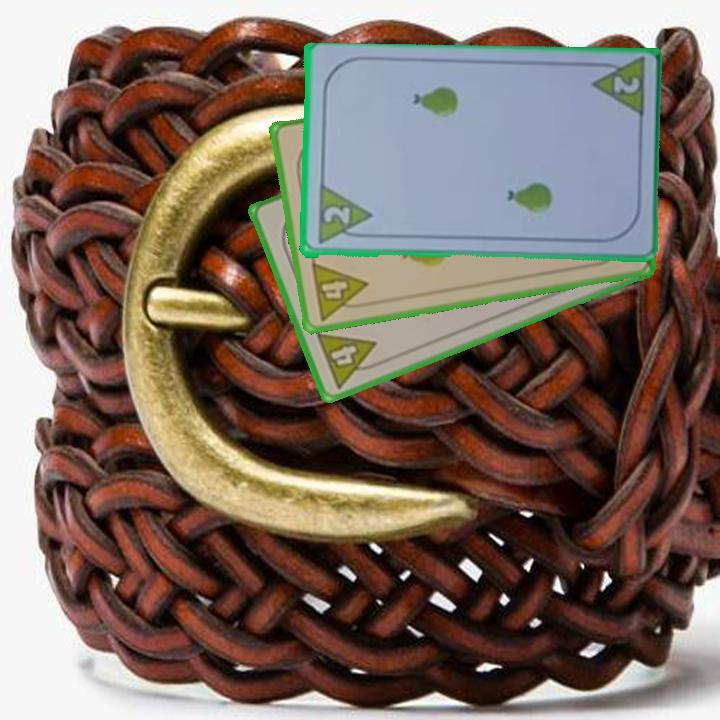2p: (609, 72, 643, 97), (319, 203, 353, 227)
4p: (312, 329, 386, 392), (307, 258, 374, 323)
